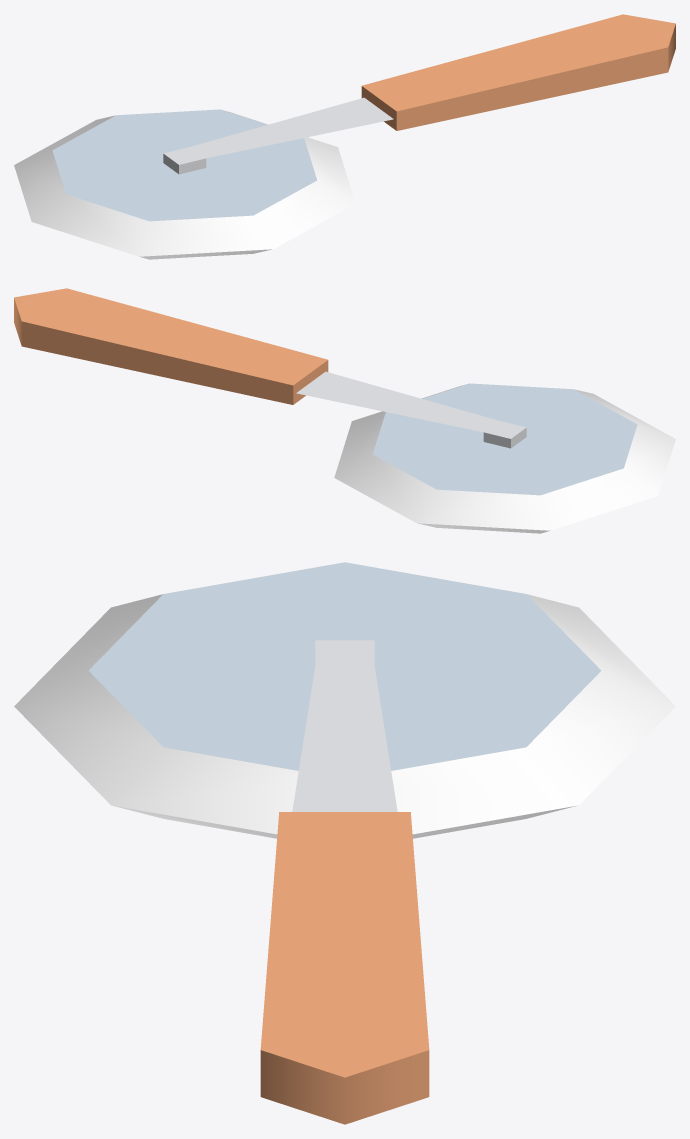
Rendered from Pizza_Cutter.glb.
3 renders of one model, top to bottom at view 1: azimuth 30°, elevation 25°; view 2: azimuth 150°, elevation 25°; view 3: azimuth 270°, elevation 25°, orthographic. The views are drawn at different scales.
Visible parts, largest first — view 1: pizzaCutter; view 2: pizzaCutter; view 3: pizzaCutter.
Boxes of the visible parts, x1=… form: pizzaCutter: x1=14, y1=14, x2=675, y2=259; pizzaCutter: x1=14, y1=288, x2=675, y2=533; pizzaCutter: x1=14, y1=562, x2=675, y2=1124.
Size of the model in its own units: 0.536 by 0.0556 by 0.2549.
